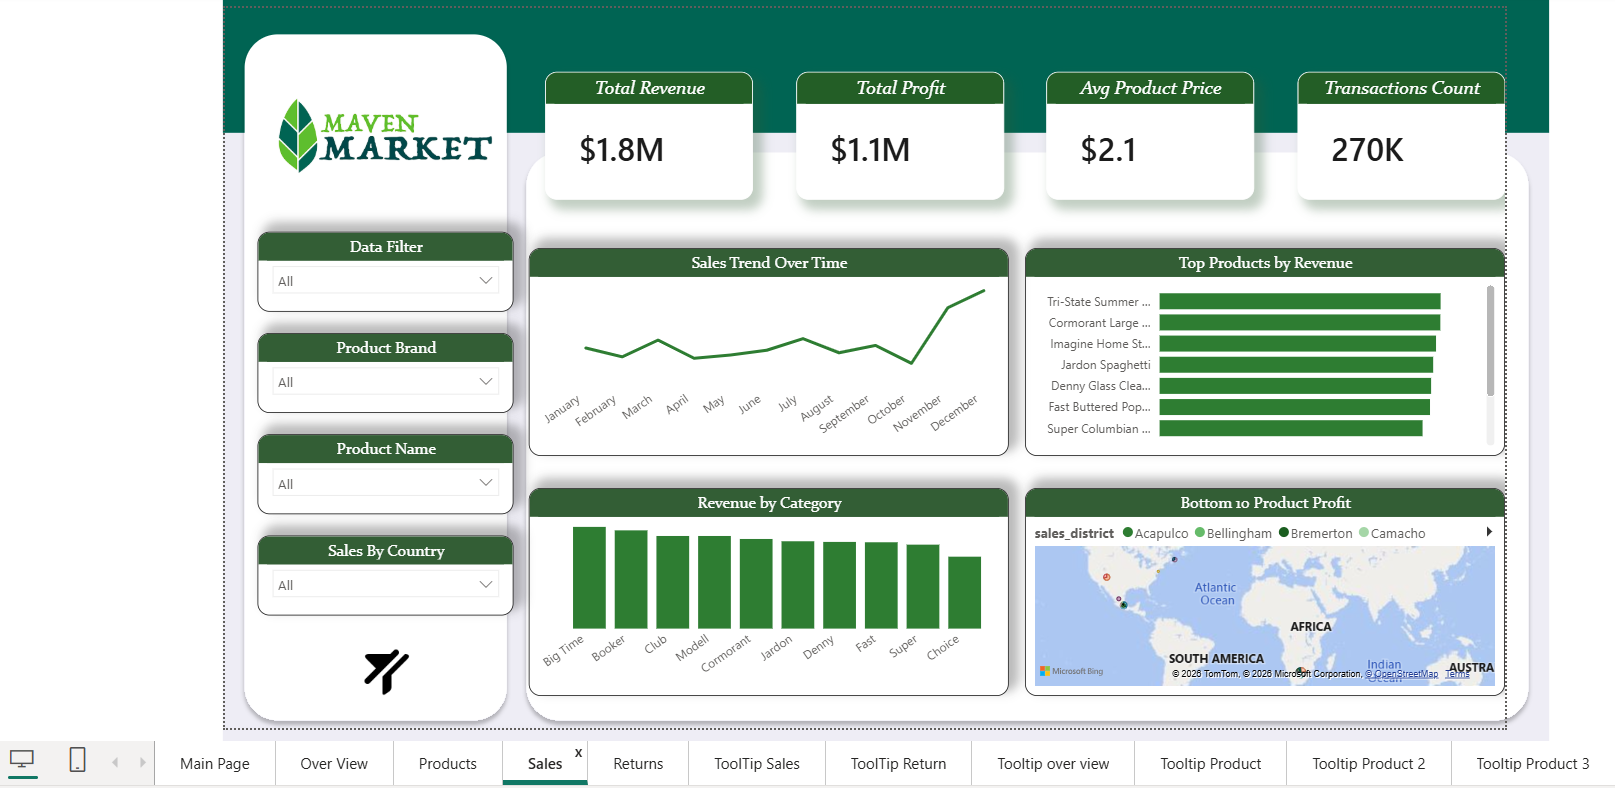

Layout of this report page (visuals, bound fields, positions):
{"tool":"powerbi","page":{"name":"Sales","canvas":[1280,720],"ordinal":3},"visuals":[{"type":"image","box":[48,48,224,160],"z":0},{"type":"cardVisual","title":"Total Revenue","fields":{"Data":["_Measure.Total Revenue"]},"box":[320,64,208,128],"z":1000},{"type":"cardVisual","title":"Total Profit","fields":{"Data":["_Measure.Total Profit"]},"box":[570.7,64,208,128],"z":2000},{"type":"cardVisual","title":"Avg Product Price","fields":{"Data":["_Measure.Avg Product Price"]},"box":[821.3,64,208,128],"z":3000},{"type":"cardVisual","title":"Transactions Count","fields":{"Data":["_Measure.Transactions Count"]},"box":[1072,64,208,128],"z":4000},{"type":"clusteredBarChart","title":"Top Products by Revenue","fields":{"Category":["Dim_Products.product_name"],"Y":["_Measure.Total Revenue"]},"box":[800,240,480,208],"z":5000},{"type":"clusteredColumnChart","title":"Revenue by Category","fields":{"Y":["_Measure.Total Revenue"],"Category":["Dim_Products.product_brand"]},"box":[304,480,480,208],"z":6000},{"type":"map","title":"Bottom 10 Product Profit","fields":{"Category":["Dim_Regions.sales_region"],"Size":["_Measure.Total Revenue"],"Series":["Dim_Regions.sales_district"]},"box":[800,480,480,208],"z":7000},{"type":"slicer","title":"Data Filter","fields":{"Values":["Dim_Calendar.Year","Dim_Calendar.Month"]},"box":[32,224,256,80],"z":8000},{"type":"slicer","title":"Product Brand","fields":{"Values":["Dim_Products.product_brand"]},"box":[32,325.3,256,80],"z":9000},{"type":"slicer","title":"Product Name","fields":{"Values":["Dim_Products.product_name"]},"box":[32,426.7,256,80],"z":10000},{"type":"slicer","title":"Sales By Country","fields":{"Values":["Dim_Regions.sales_region"]},"box":[32,528,256,80],"z":11000},{"type":"image","box":[112,640,96,48],"z":12000},{"type":"lineChart","title":"Sales Trend Over Time","fields":{"Y":["_Measure.Total Revenue"],"Category":["Dim_Calendar.Month"]},"box":[304,240,480,208],"z":13000}]}

Visuals, with their boxes on the page's 1280x720 design canvas (x1, y1, x2, y2). These are canvas units, not pixel positions in the 1615x788 screenshot, which may show the page scaled, cropped or inside an application window:
image: detection(48, 48, 272, 208)
"Total Revenue" cardVisual: detection(320, 64, 528, 192)
"Total Profit" cardVisual: detection(571, 64, 779, 192)
"Avg Product Price" cardVisual: detection(821, 64, 1029, 192)
"Transactions Count" cardVisual: detection(1072, 64, 1280, 192)
"Top Products by Revenue" clusteredBarChart: detection(800, 240, 1280, 448)
"Revenue by Category" clusteredColumnChart: detection(304, 480, 784, 688)
"Bottom 10 Product Profit" map: detection(800, 480, 1280, 688)
"Data Filter" slicer: detection(32, 224, 288, 304)
"Product Brand" slicer: detection(32, 325, 288, 405)
"Product Name" slicer: detection(32, 427, 288, 507)
"Sales By Country" slicer: detection(32, 528, 288, 608)
image: detection(112, 640, 208, 688)
"Sales Trend Over Time" lineChart: detection(304, 240, 784, 448)
